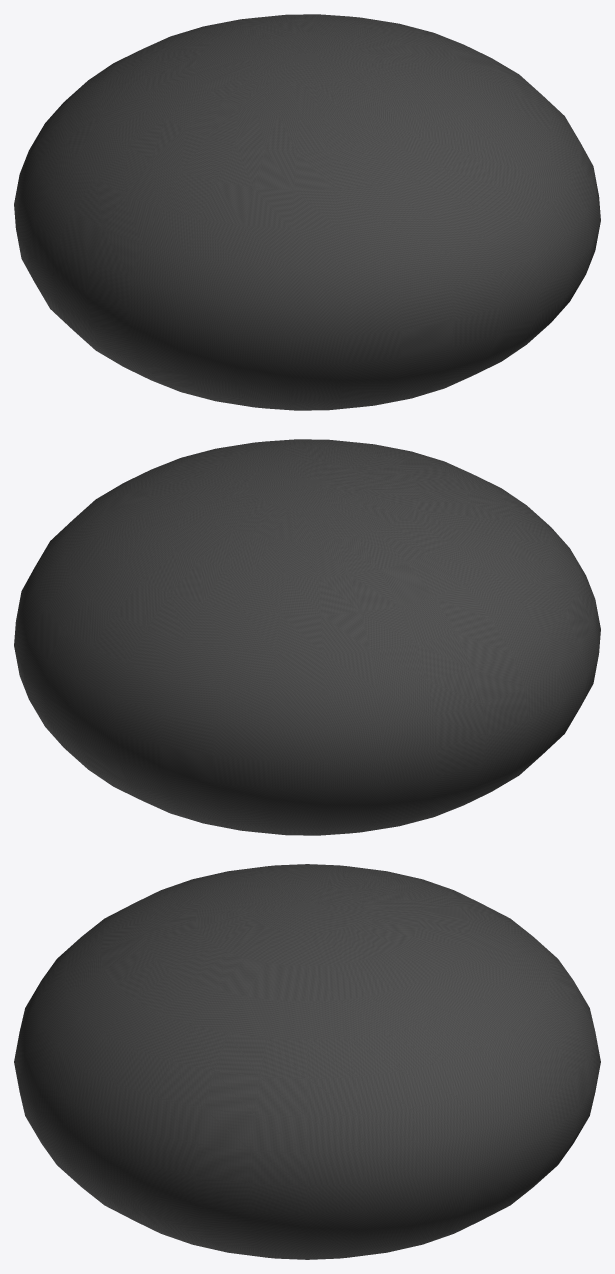
File: CellMembraneObjectToScale.fbx
The picture shows the model from 3 angles, top to bottom: view 1: azimuth 30°, elevation 25°; view 2: azimuth 150°, elevation 25°; view 3: azimuth 270°, elevation 25°; orthographic projection.
Parts seen in each view (by area): view 1: Sphere; view 2: Sphere; view 3: Sphere.
Part boxes in pixels (bbox=[...]): Sphere: bbox=[14, 14, 600, 410]; Sphere: bbox=[14, 439, 600, 835]; Sphere: bbox=[14, 864, 600, 1259].
Bounding box in the file's own units: 96000 × 56000 × 96000.
1 material, 1 textured.
